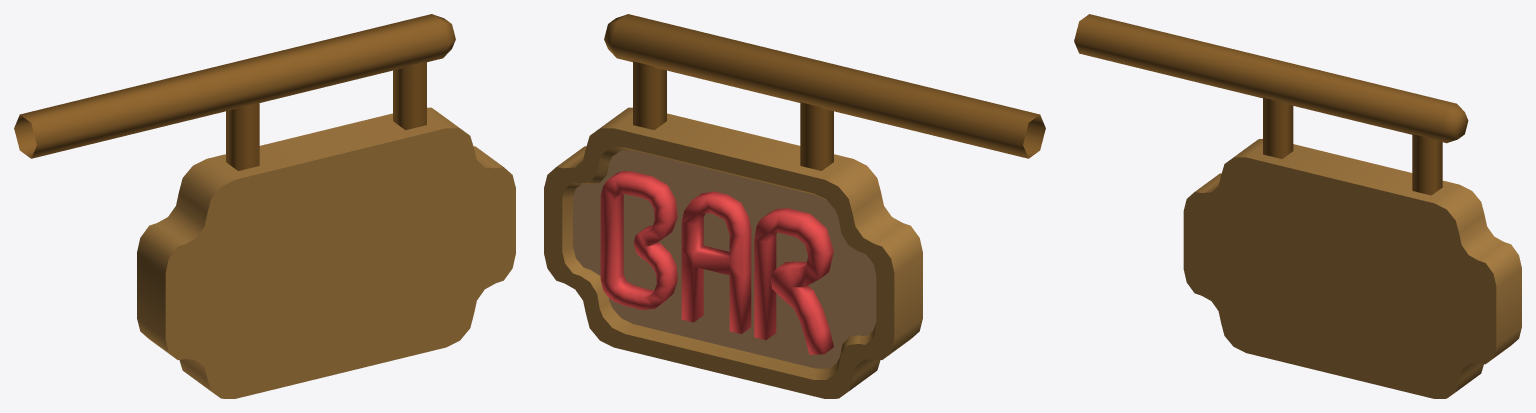
Rendered from BarSign_2.fbx.
3 renders of one model, left to right at view 1: azimuth 30°, elevation 25°; view 2: azimuth 150°, elevation 25°; view 3: azimuth 330°, elevation 25°, orthographic. The views are drawn at different scales.
Parts seen in each view (by area): view 1: BarSign.001; view 2: BarSign.001; view 3: BarSign.001.
Part boxes in pixels (x1,y1,x2,y2): BarSign.001: (14, 14, 515, 398); BarSign.001: (544, 14, 1045, 398); BarSign.001: (1074, 14, 1521, 398).
Size of the model in its own units: 281 by 179 by 33.8.
